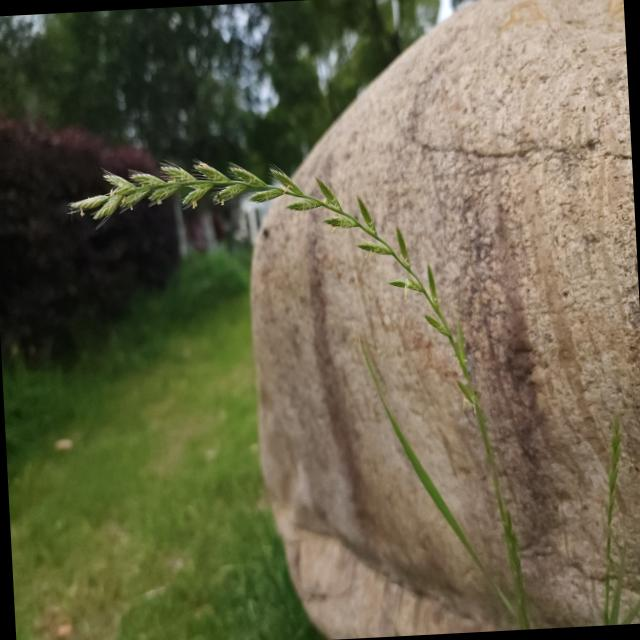Lolium: (62, 137, 533, 640)
